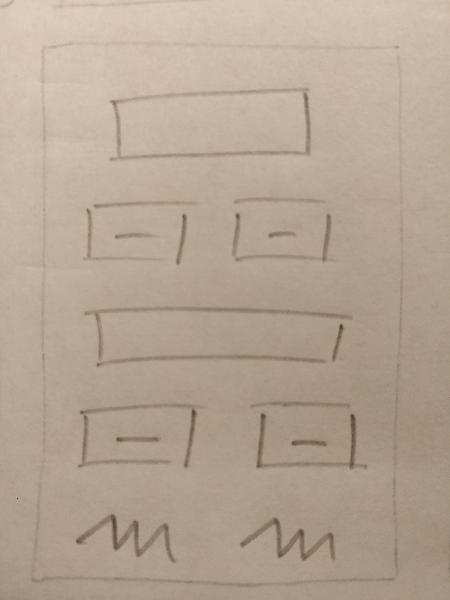button: (239, 391, 376, 480), (67, 399, 211, 475), (72, 195, 207, 273), (221, 188, 345, 271)
text: (65, 501, 184, 567), (233, 507, 349, 568)
text_input: (71, 302, 360, 374), (103, 84, 325, 166)
